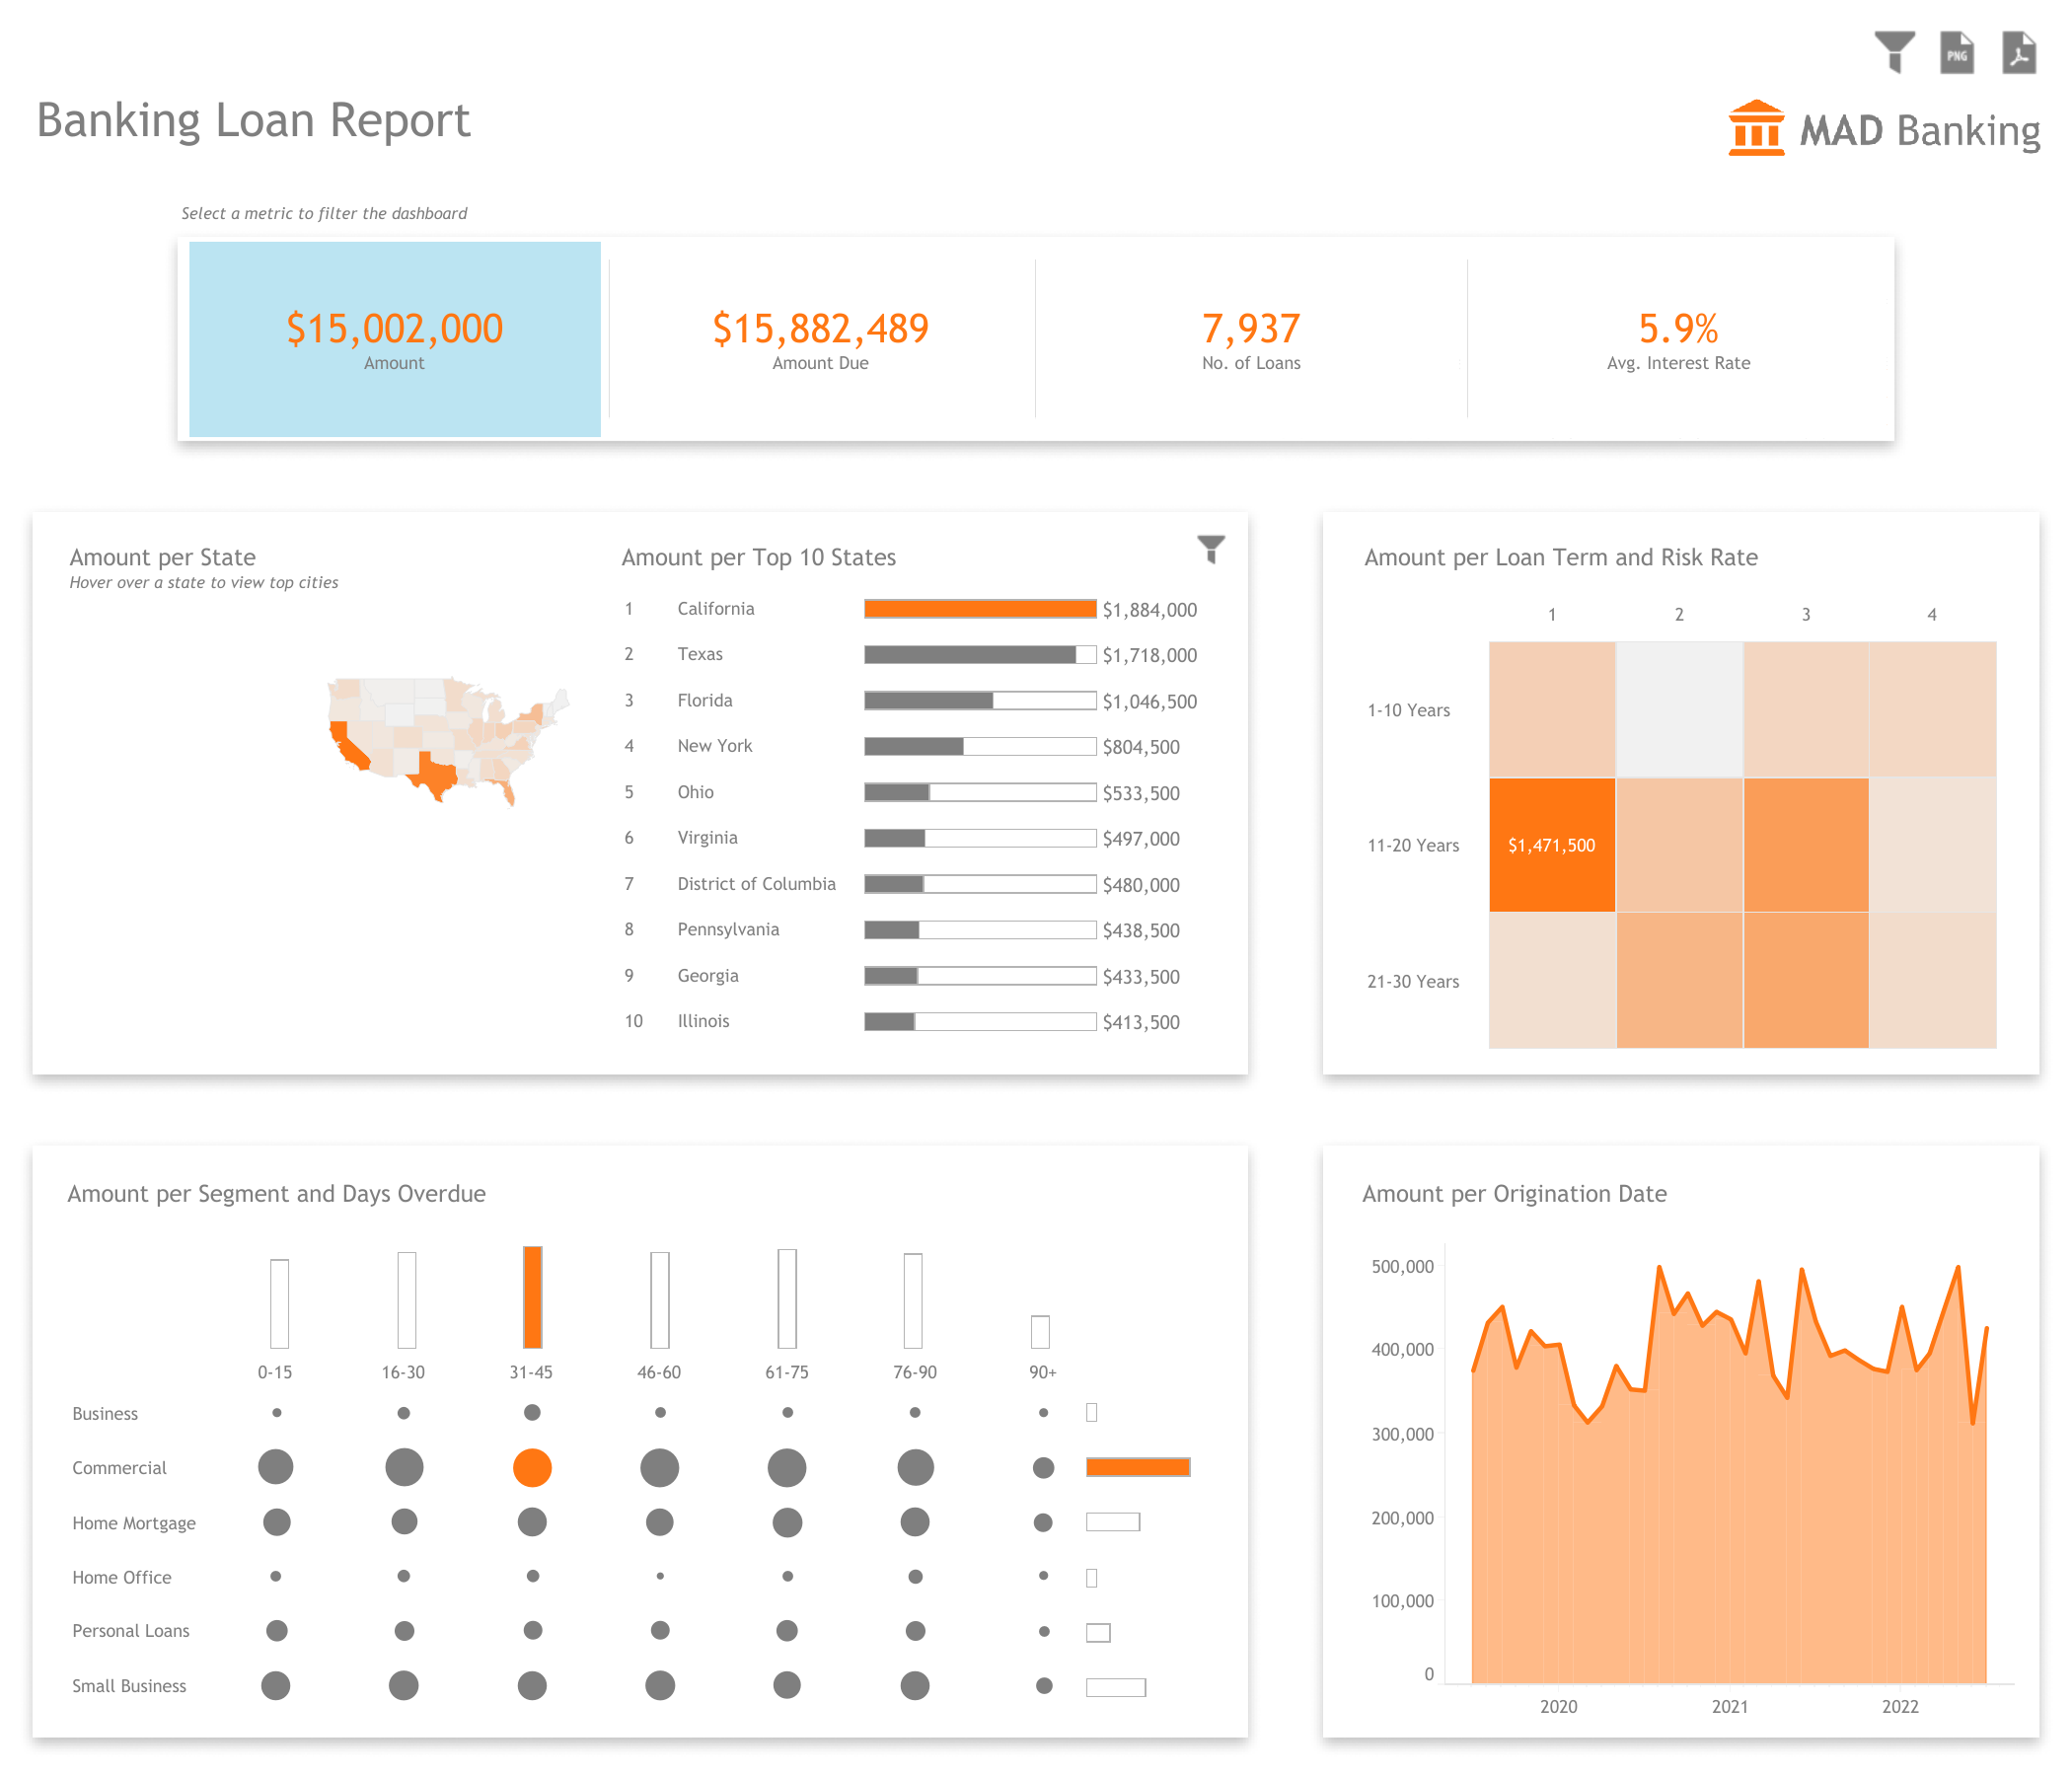

This screenshot's page, from the dashboard's own definition file:
{"tool":"tableau","page":{"name":"Loan Report","canvas":[1400,1200],"ordinal":0},"visuals":[{"type":"image","param":"Image/Light Mode.png","box":[0,0,1400,1200]},{"type":"dashboard-object","box":[1260,16,42,39]},{"type":"dashboard-object","box":[1302,16,42,39]},{"type":"dashboard-object","box":[1344,16,42,39]},{"type":"text","box":[1075,26,172,28]},{"type":"text","box":[22,38,486,85]},{"type":"blank","box":[1075,54,172,13]},{"type":"image","param":"Image/White Background Logo_scale@2x (1).png","box":[1168,55,216,63]},{"type":"filter","title":"Origination Date","param":"[federated.0q045np12cfz111ahwopg0z61zrl].[tmn:Origination Date:qk]","box":[1075,67,172,67]},{"type":"text","box":[120,132,223,24]},{"type":"filter","title":"Loan Term and Risk Rate","param":"[federated.0q045np12cfz111ahwopg0z61zrl].[none:Calculation_2139139519687319555:n","box":[1075,134,172,51]},{"type":"worksheet","title":"Amount","mark":"Automatic","box":[128,163,278,132]},{"type":"worksheet","title":"Amount Due","mark":"Text","box":[416,163,278,132]},{"type":"worksheet","title":"No. of Loans","mark":"Text","box":[707,163,278,132]},{"type":"worksheet","title":"Avg. Interest Rate","mark":"Text","box":[996,163,278,132]},{"type":"text","box":[716,355,32,43]},{"type":"parameter","param":"[Parameters].[Parameter 2]","box":[748,355,56,43]},{"type":"worksheet","title":"State","mark":"Multipolygon","box":[43,356,365,363]},{"type":"worksheet","title":"Top 10 States ","mark":"Bar","rows":["Calculation_2919106681089085445","Customer Address - Split 3"],"cols":["Calculation_2139139520040349700","Calculation_3950642102773870593"],"box":[406,356,426,360]},{"type":"worksheet","title":"Loan Term and Risk Rate","mark":"Square","rows":["Calculation_2139139519687319555"],"cols":["Risk Rate"],"box":[918,356,431,352]},{"type":"dashboard-object","box":[808,361,21,22]},{"type":"text","box":[43,786,427,40]},{"type":"text","box":[918,786,354,40]},{"type":"worksheet","title":"Days Overdue ","mark":"Bar","rows":["Calculation_2139139520040349700"],"cols":["Calculation_2139139519685521409"],"box":[146,839,600,72]},{"type":"worksheet","title":"Origination Date","mark":"Automatic","rows":["Calculation_2139139520040349700","Calculation_2139139520040349700"],"cols":["Origination Date"],"box":[916,840,445,328]},{"type":"worksheet","title":"Segment and Days Overdue","mark":"Circle","rows":["Segment"],"cols":["Calculation_2139139519685521409"],"box":[43,916,705,241]},{"type":"worksheet","title":"Segment","mark":"Automatic","rows":["Segment"],"cols":["Calculation_2139139520040349700"],"box":[734,935,74,224]}]}

Visuals, with their boxes in screenshot pixels (x1, y1, x2, y2), scaled from the page's 1400x1200 canvas onto the 2072x1776 screenshot:
image: BBox(0, 0, 2071, 1775)
dashboard-object: BBox(1865, 24, 1927, 81)
dashboard-object: BBox(1927, 24, 1989, 81)
dashboard-object: BBox(1989, 24, 2051, 81)
text: BBox(1591, 38, 1845, 80)
text: BBox(33, 56, 752, 182)
blank: BBox(1591, 80, 1845, 99)
image: BBox(1729, 81, 2048, 175)
"Origination Date" filter: BBox(1591, 99, 1845, 198)
text: BBox(178, 195, 507, 231)
"Loan Term and Risk Rate" filter: BBox(1591, 198, 1845, 274)
"Amount" worksheet: BBox(189, 241, 601, 436)
"Amount Due" worksheet (Text marks): BBox(616, 241, 1027, 436)
"No. of Loans" worksheet (Text marks): BBox(1046, 241, 1458, 436)
"Avg. Interest Rate" worksheet (Text marks): BBox(1474, 241, 1886, 436)
text: BBox(1060, 525, 1107, 589)
parameter: BBox(1107, 525, 1190, 589)
"State" worksheet (Multipolygon marks): BBox(63, 527, 604, 1064)
"Top 10 States " worksheet (Bar marks): BBox(601, 527, 1231, 1060)
"Loan Term and Risk Rate" worksheet (Square marks): BBox(1359, 527, 1997, 1048)
dashboard-object: BBox(1196, 535, 1227, 566)
text: BBox(63, 1163, 696, 1222)
text: BBox(1359, 1163, 1883, 1222)
"Days Overdue " worksheet (Bar marks): BBox(216, 1241, 1104, 1348)
"Origination Date" worksheet: BBox(1356, 1243, 2015, 1729)
"Segment and Days Overdue" worksheet (Circle marks): BBox(63, 1356, 1107, 1713)
"Segment" worksheet: BBox(1086, 1383, 1196, 1715)
